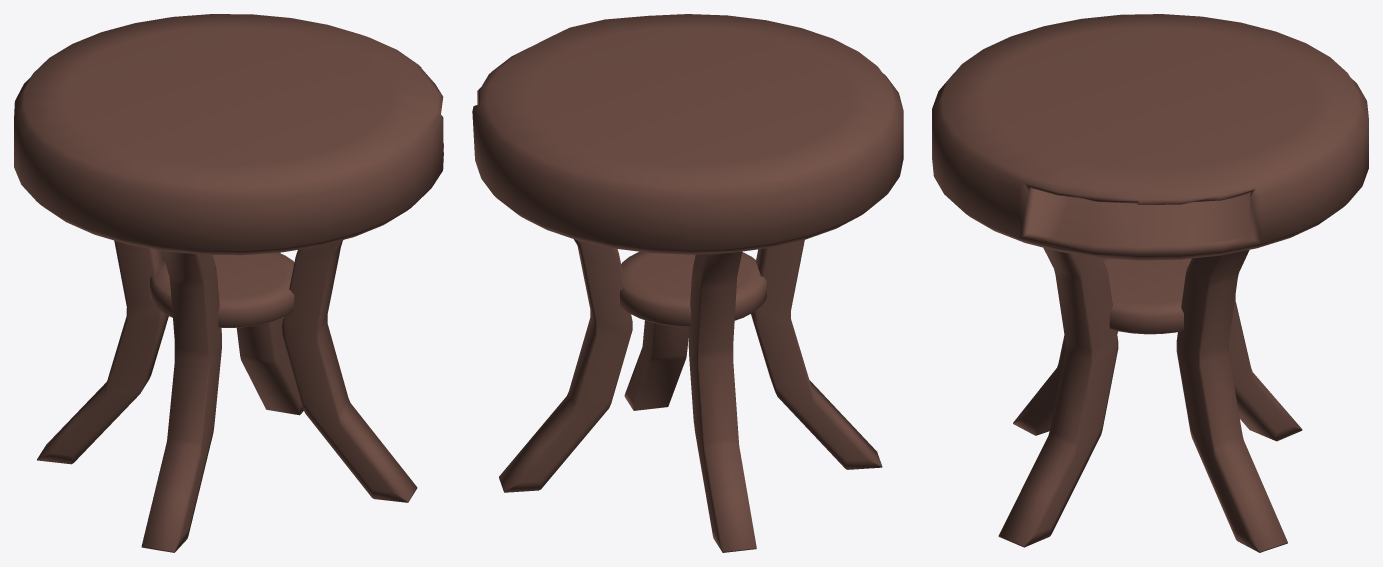
File: end_table.glb
The picture shows the model from 3 angles, left to right: view 1: azimuth 30°, elevation 25°; view 2: azimuth 150°, elevation 25°; view 3: azimuth 270°, elevation 25°; orthographic projection. The views are drawn at different scales.
Parts seen in each view (by area): view 1: end table; view 2: end table; view 3: end table.
Boxes of the visible parts, bbox=[...] form: end table: bbox=[14, 14, 443, 552]; end table: bbox=[472, 14, 903, 552]; end table: bbox=[932, 14, 1368, 552].
Size of the model in its own units: 0.5567 by 0.5382 by 0.5526.
